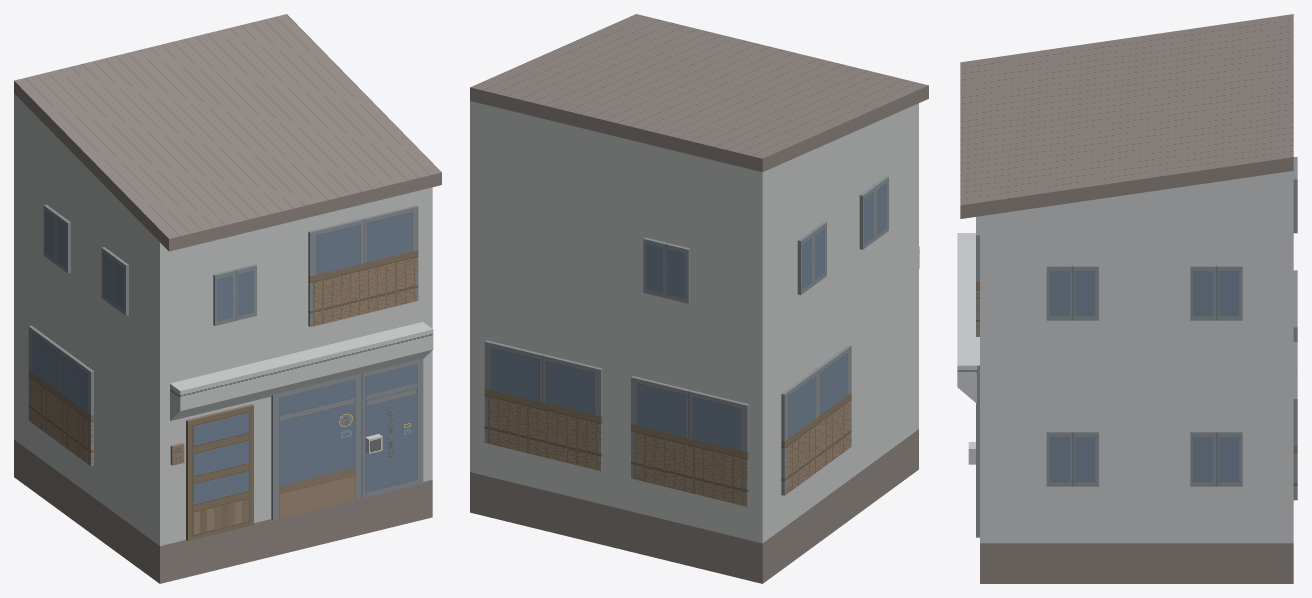
File: 00c9_Barbershop.glb
3 renders of one model, left to right at view 1: azimuth 30°, elevation 25°; view 2: azimuth 150°, elevation 25°; view 3: azimuth 270°, elevation 25°, orthographic. The views are drawn at different scales.
Parts seen in each view (by area): view 1: part_0; view 2: part_0; view 3: part_0.
Part boxes in pixels (x1,y1,x2,y2): part_0: (14,14,441,583); part_0: (470,14,928,583); part_0: (957,14,1297,583).
Bounding box in the file's own units: 4.64 × 6.3 × 4.55.
Materials: 1 (1 with a texture image).
